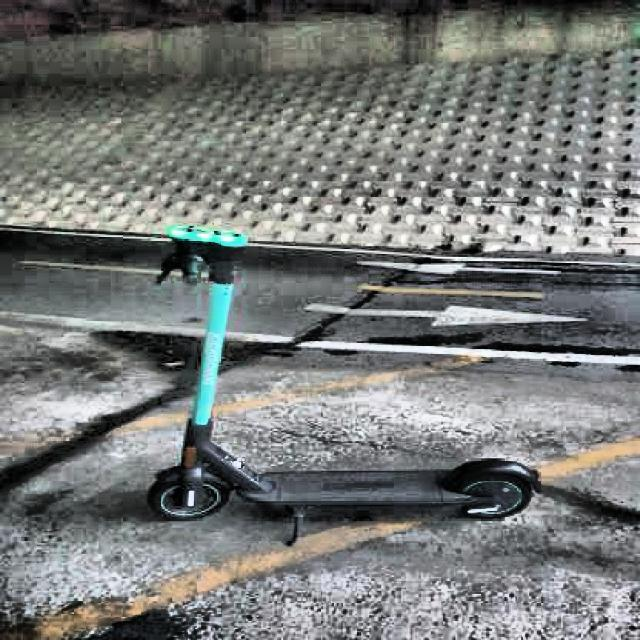bike: (142, 223, 544, 546)
